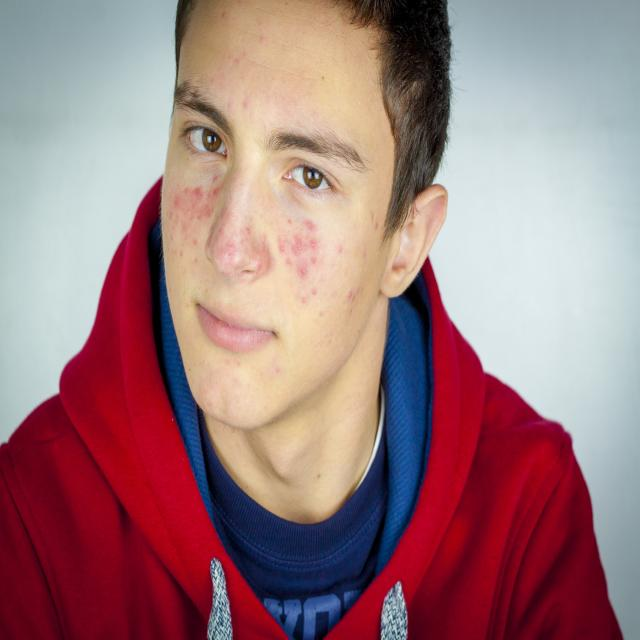Acne: (269, 207, 355, 309), (164, 175, 244, 252), (276, 288, 280, 290)
